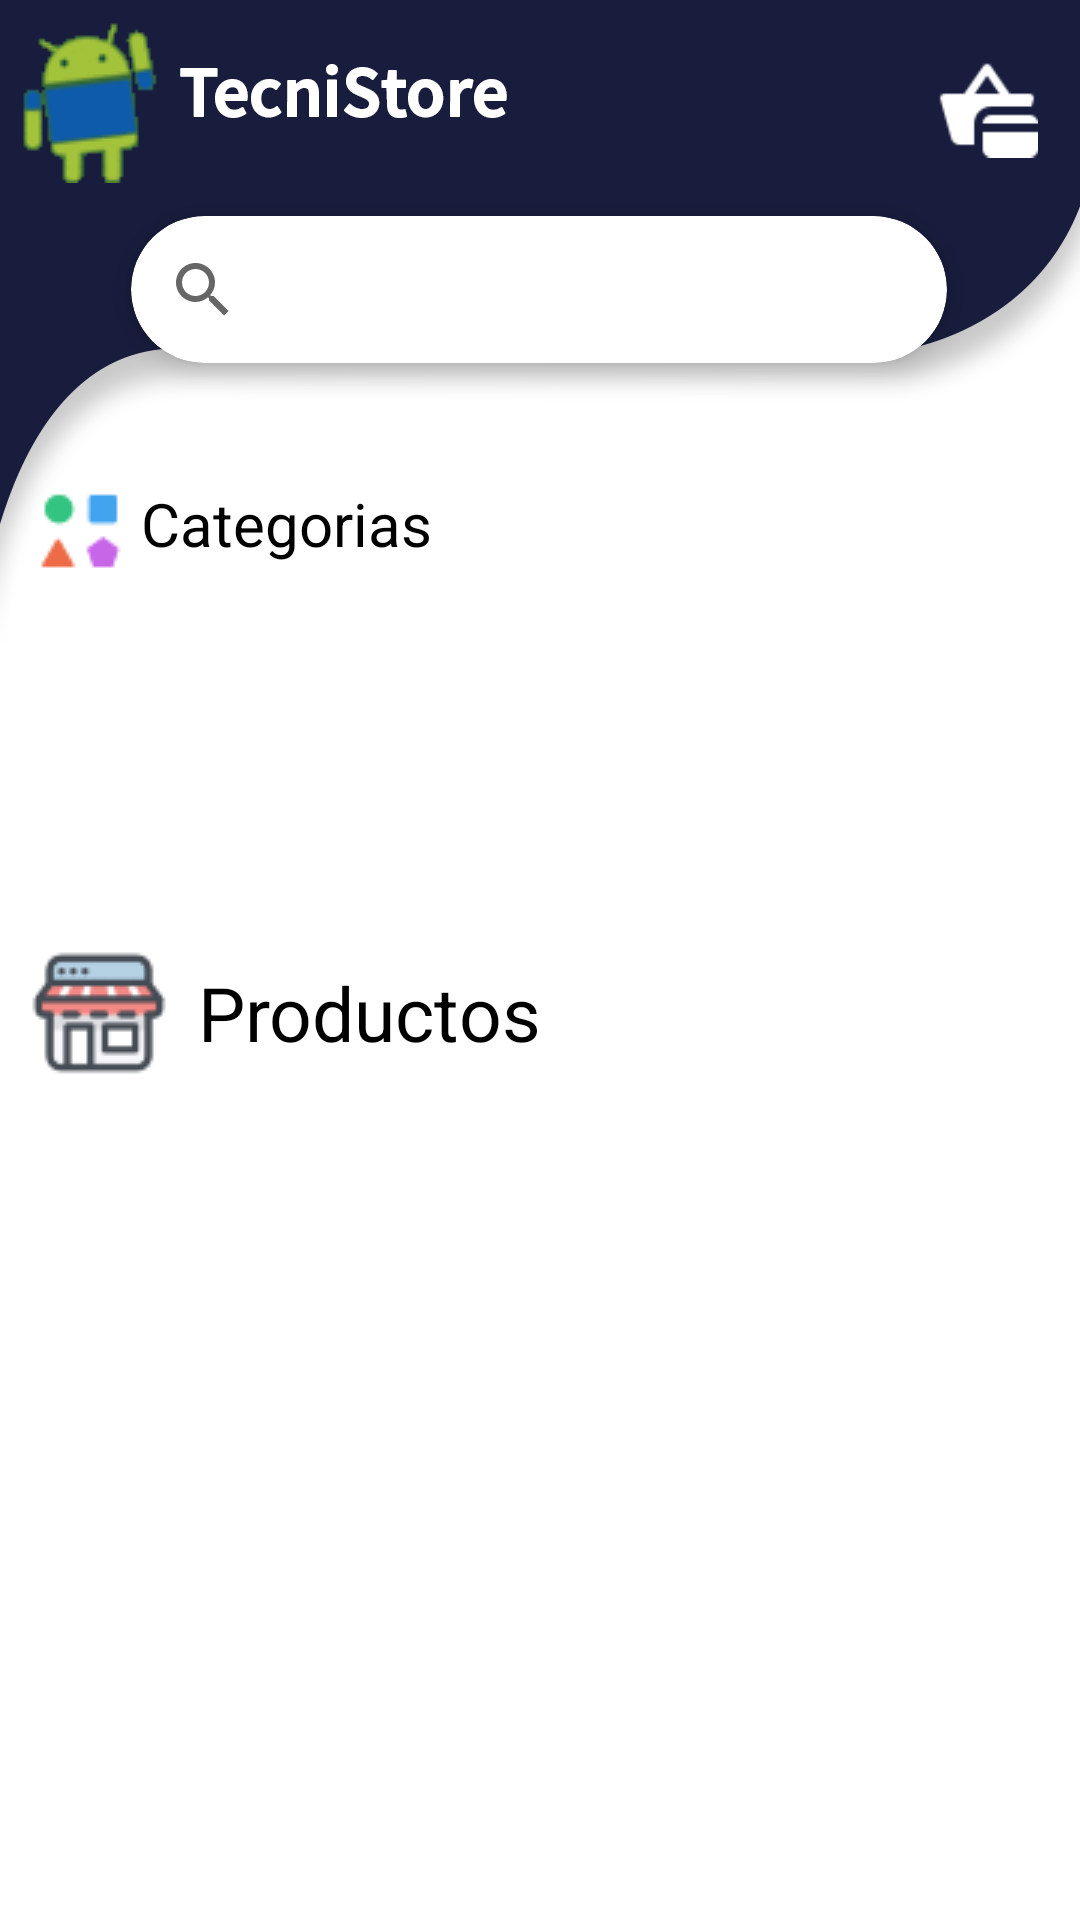

Where to tap for icons on this 1080px×1920px app screen, as (x=x, y=y):
category: (x=80, y=531)
shopping: (x=988, y=110)
store products: (x=99, y=1012)
